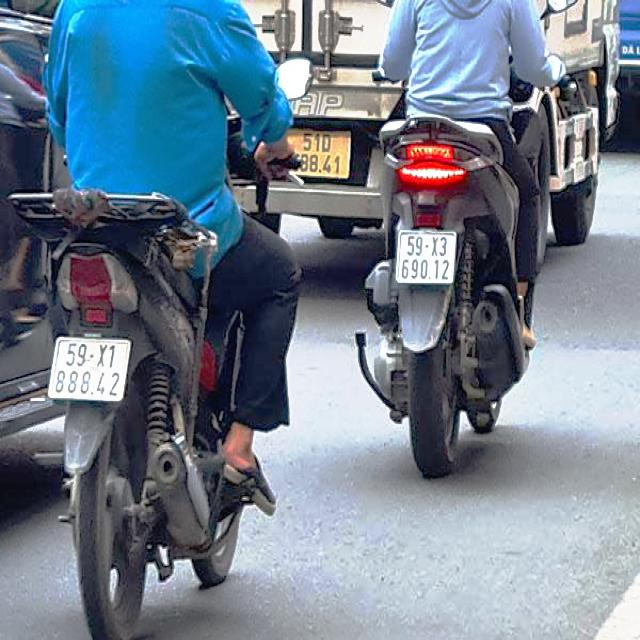license_plate: (49, 337, 131, 399), (397, 230, 457, 283)
